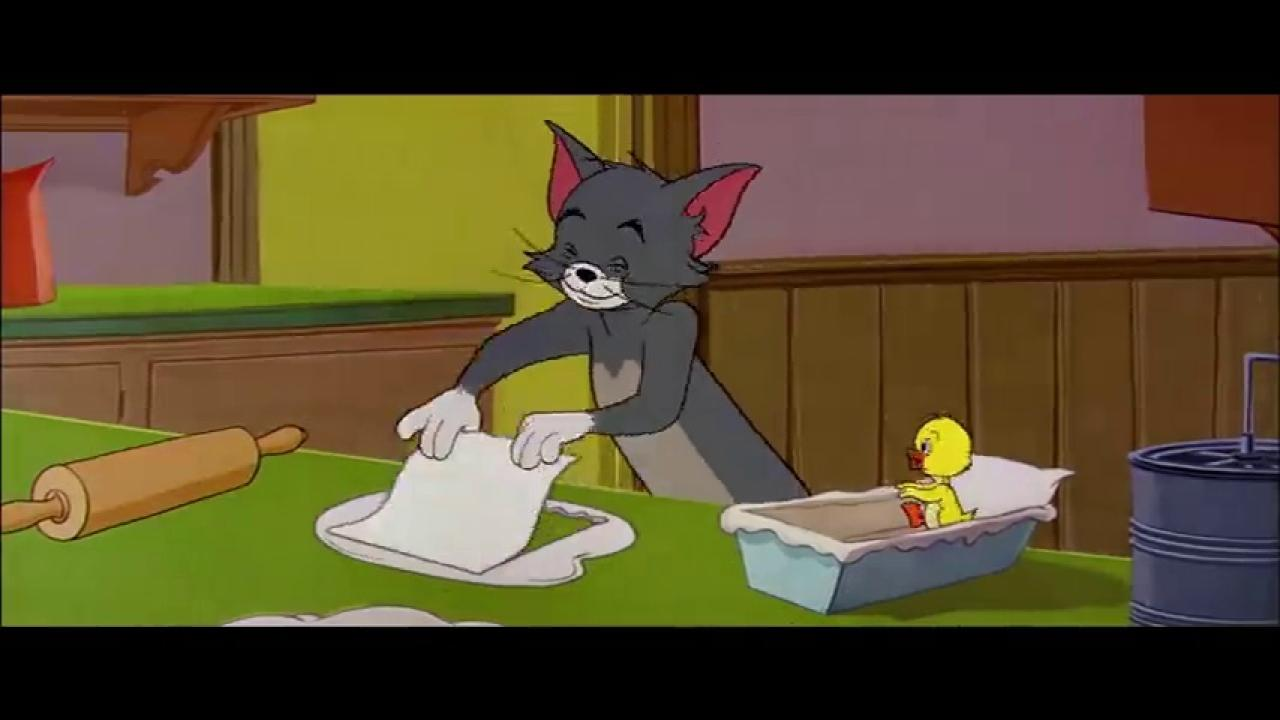Tom: (394, 116, 811, 503)
